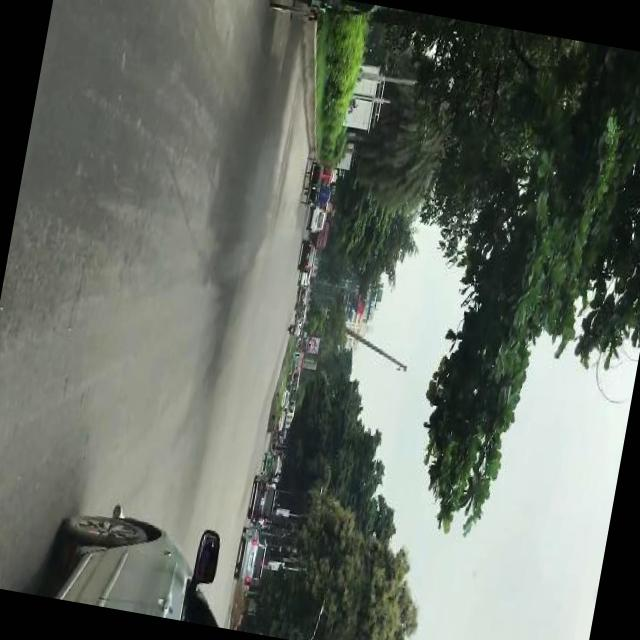car: (298, 239, 316, 273), (292, 286, 308, 314), (272, 413, 285, 438), (280, 389, 290, 413), (300, 272, 309, 286)
motorcycle: (302, 160, 334, 190), (299, 183, 330, 210), (258, 454, 278, 482), (286, 324, 304, 340)
truck: (232, 524, 268, 586), (247, 474, 278, 524), (304, 204, 327, 235)
